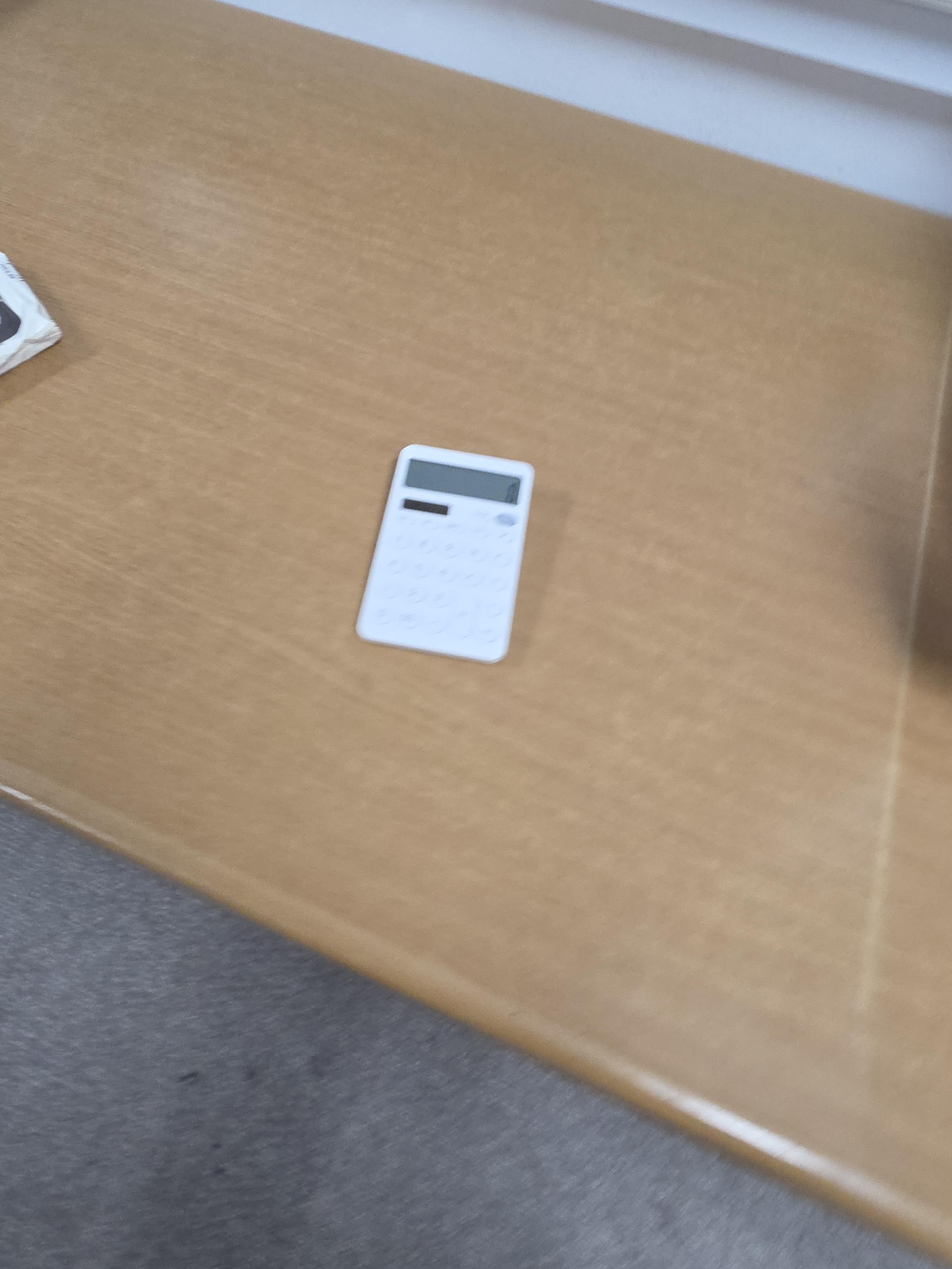calculator: (354, 443, 537, 665)
